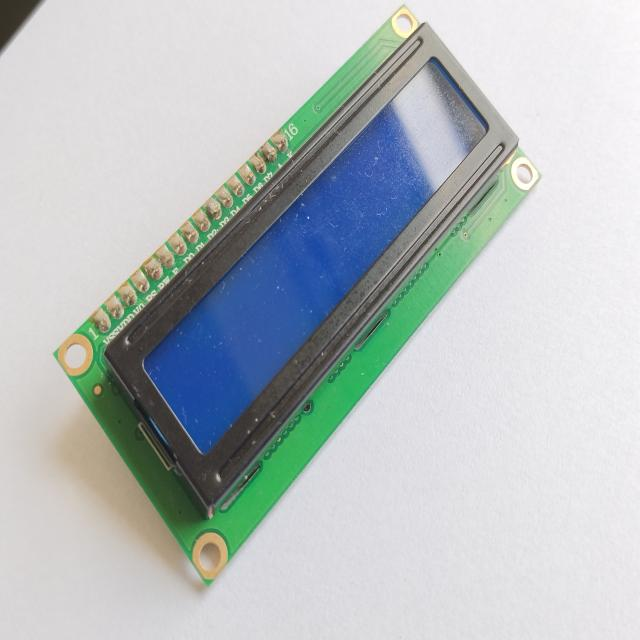lcd: (53, 5, 541, 586)
